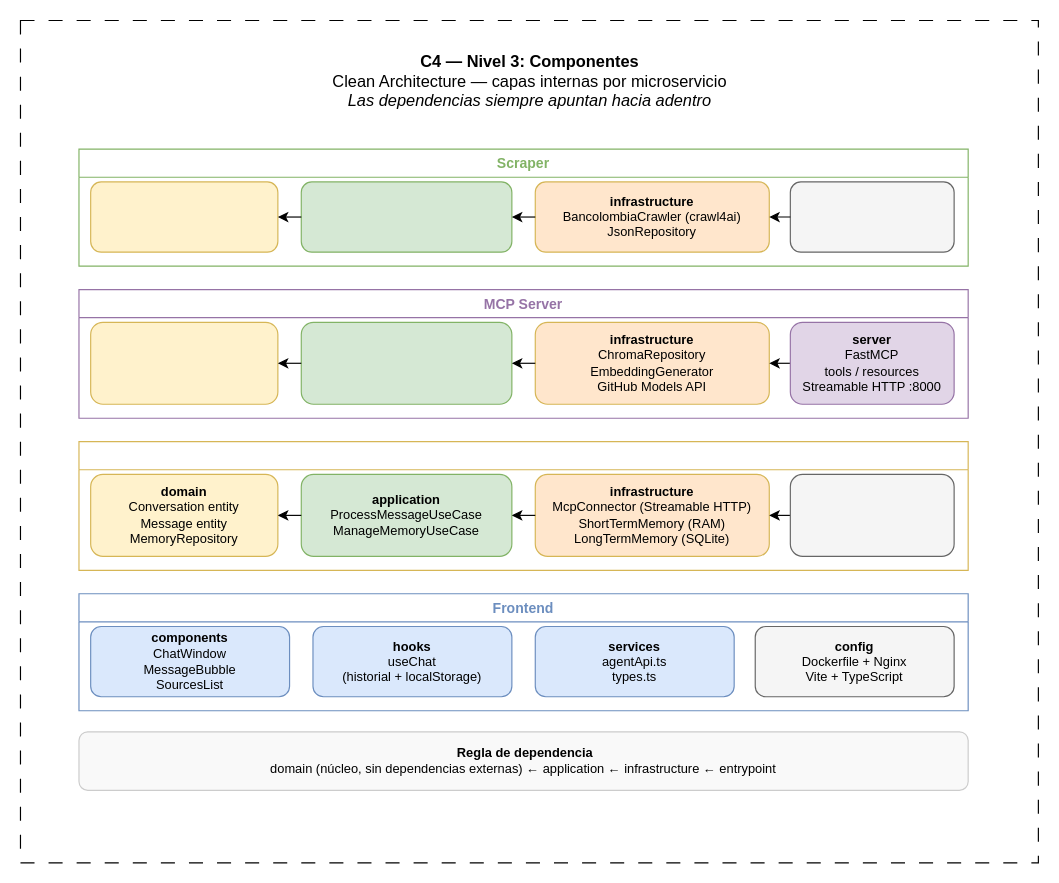
This 1059x883 diagram has some shape labels left out. The box of each missing label's shape, as (x1, y1, x2, y2) in pixels:
Agent: (78, 441, 968, 570)
application CrawlWebsiteUseCase CleanContentUseCase: (300, 181, 512, 252)
application SearchKnowledgeUseCase GetArticleByUrlUseCase ListCategoriesUseCase: (300, 321, 512, 404)
domain Document entity VectorRepository (puerto/interfaz): (90, 321, 278, 404)
domain Page entity CrawlerRepository: (90, 181, 278, 252)
main entrypoint .env config: (789, 181, 954, 252)
main FastAPI + LangGraph REST endpoints puerto 8001: (789, 473, 954, 556)
